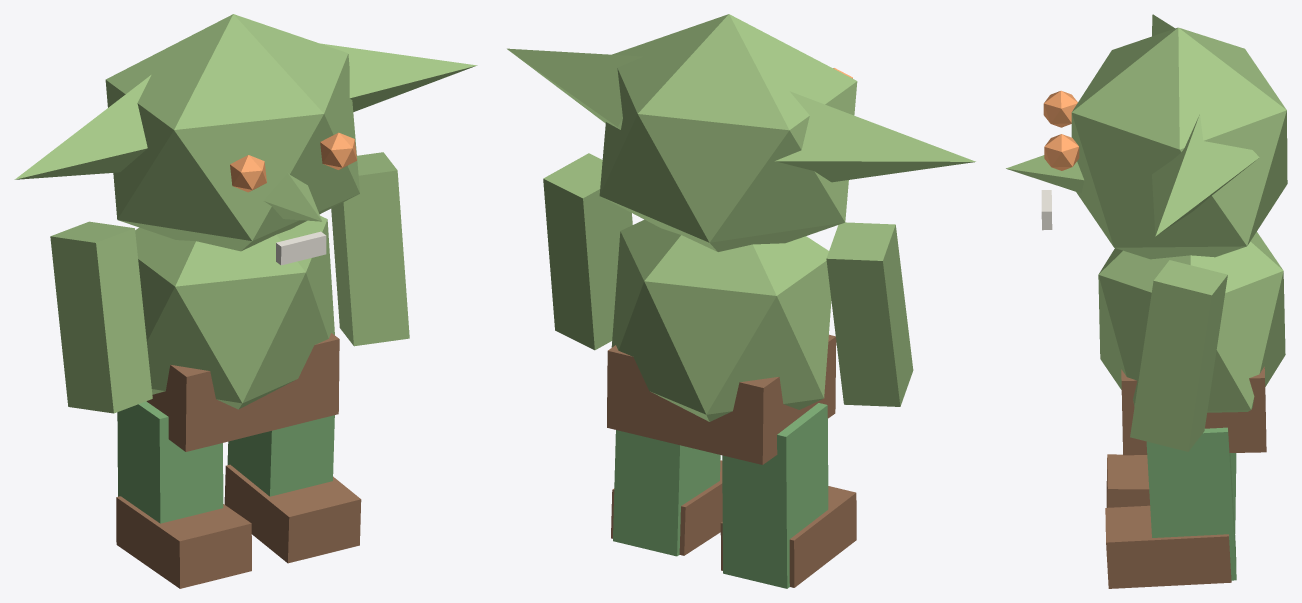
The model's file is npcpose_goblin_idle_04.glb.
3 views of the same model, side by side, from view 1: azimuth 30°, elevation 25°; view 2: azimuth 150°, elevation 25°; view 3: azimuth 270°, elevation 25° (orthographic). The views are drawn at different scales.
Visible parts, largest first — view 1: npcpose; view 2: npcpose; view 3: npcpose.
Boxes of the visible parts, <box> form: npcpose: <box>14,14,477,588</box>; npcpose: <box>507,14,975,588</box>; npcpose: <box>1006,14,1287,588</box>.
Size of the model in its own units: 1.03 by 1.12 by 0.5503.
